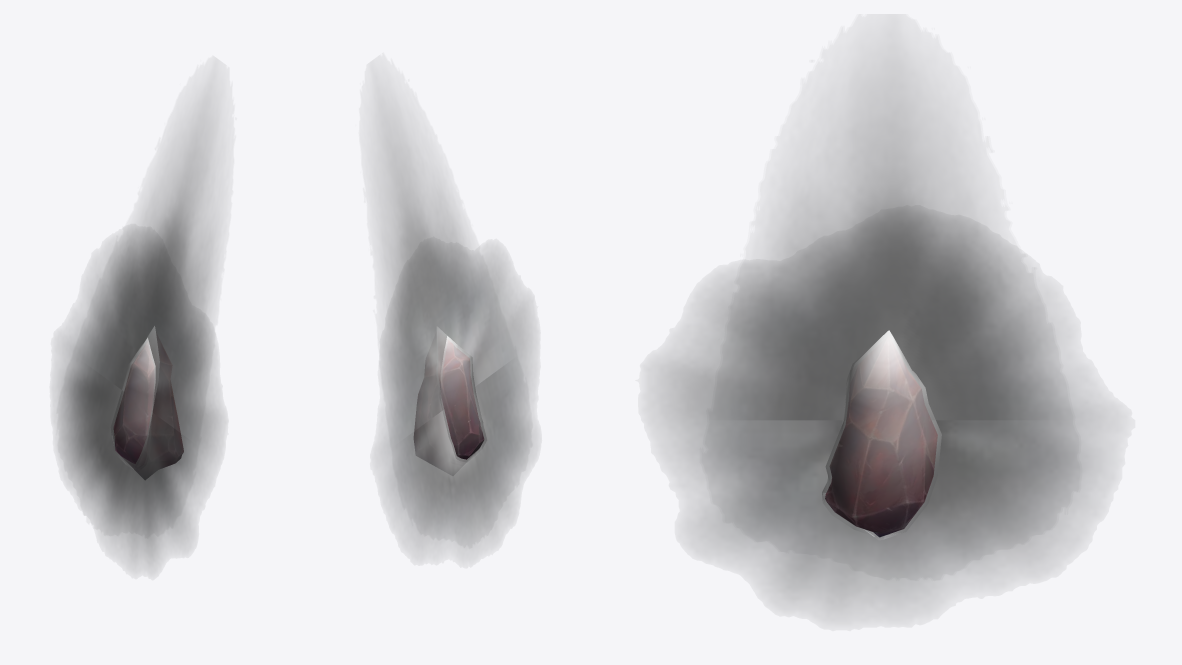
The picture shows the model from 3 angles, left to right: view 1: azimuth 30°, elevation 25°; view 2: azimuth 150°, elevation 25°; view 3: azimuth 270°, elevation 25°; orthographic projection. The views are drawn at different scales.
Bounding box in the file's own units: 3.77 × 15.08 × 10.74.
Materials: 4 (4 with a texture image).
